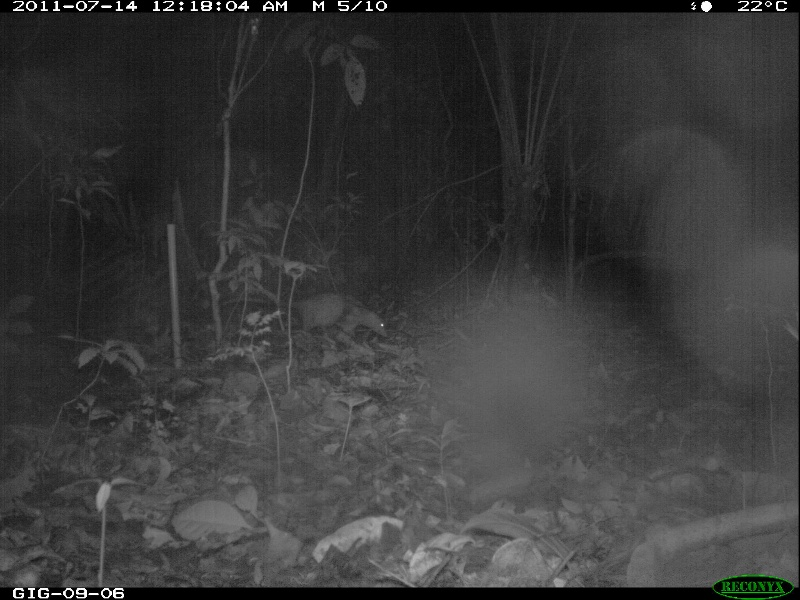opossum: (228, 281, 390, 341)
